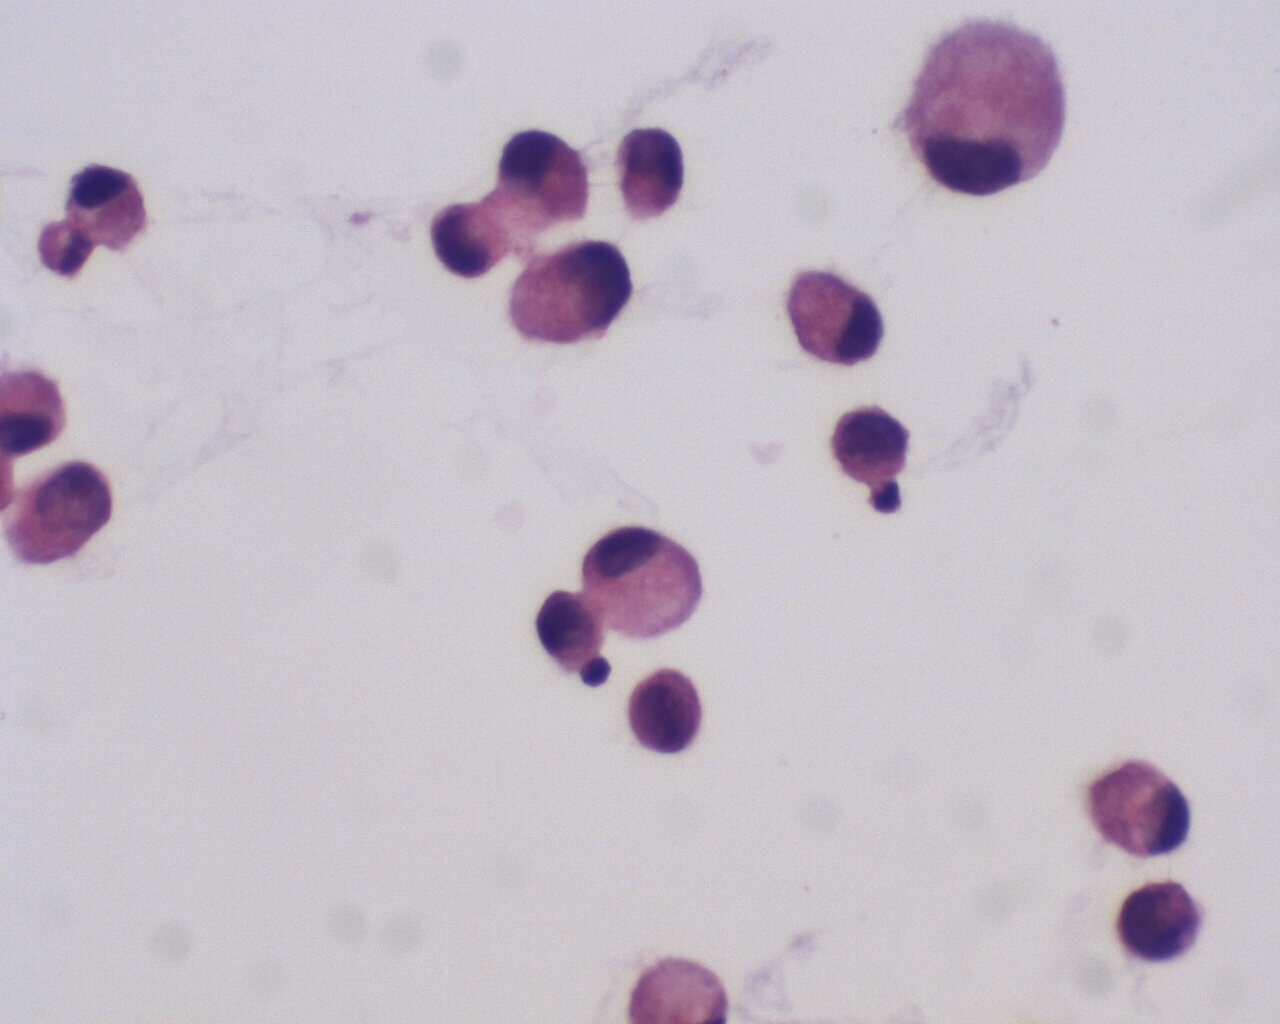ab: (504, 237, 633, 354), (608, 125, 696, 228), (628, 660, 709, 760), (1112, 878, 1201, 968), (534, 581, 615, 676), (827, 404, 917, 483)
histo: (890, 10, 1074, 203), (578, 517, 705, 639), (1080, 745, 1194, 863), (56, 163, 150, 250)
